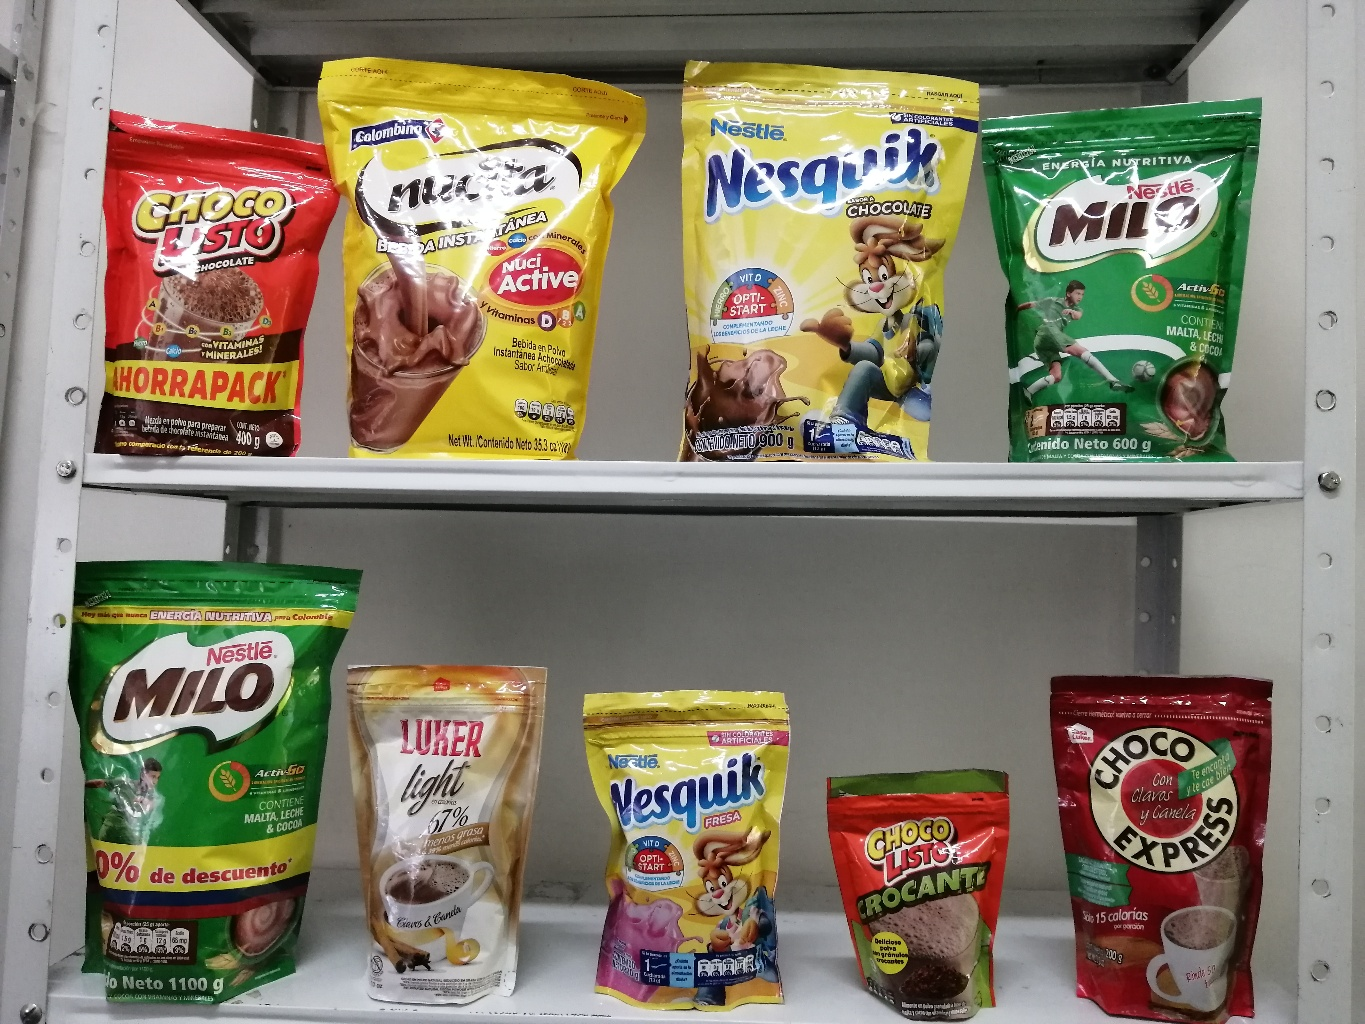COL0170102DYP10000: (814, 769, 1049, 1024)
COL0170103DYP40000: (89, 91, 344, 443)
COL0170305DYP20000: (561, 665, 812, 1024)
